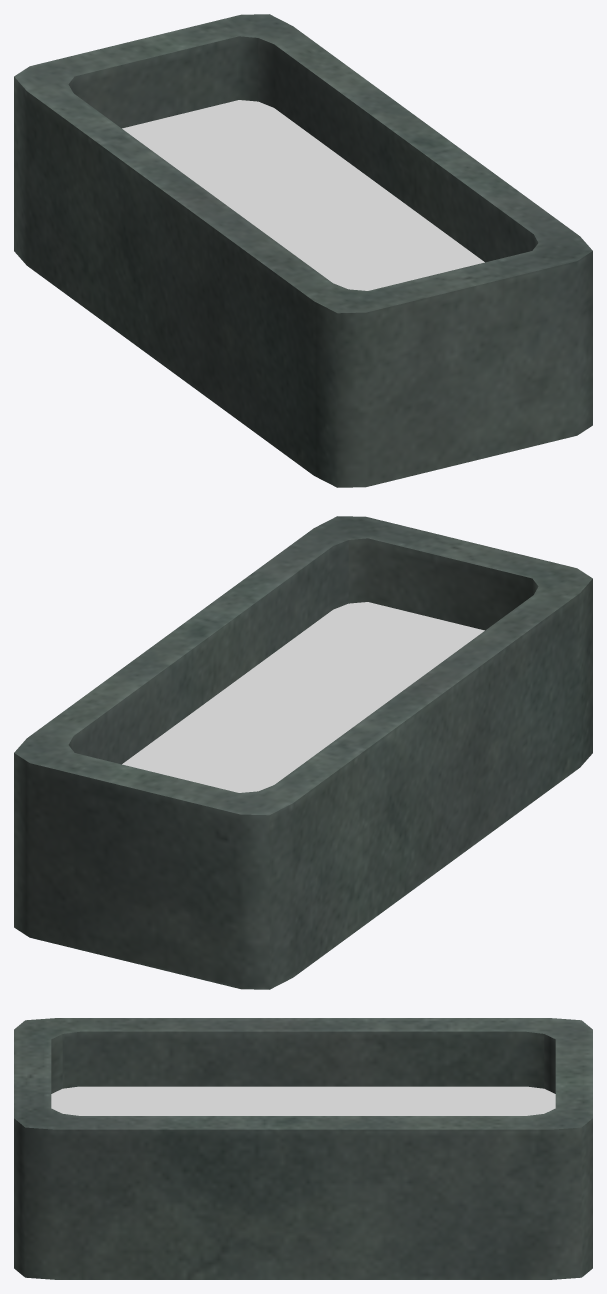
Rendered from sb_obj_indoor012_BlackSmith02.fbx.
The picture shows the model from 3 angles, top to bottom: view 1: azimuth 30°, elevation 25°; view 2: azimuth 150°, elevation 25°; view 3: azimuth 270°, elevation 25°; orthographic projection. The views are drawn at different scales.
Parts seen in each view (by area): view 1: sb_obj_indoor012_BlackSmith02; view 2: sb_obj_indoor012_BlackSmith02; view 3: sb_obj_indoor012_BlackSmith02.
Boxes of the visible parts, x1,y1,x2,y2 form: sb_obj_indoor012_BlackSmith02: [14, 14, 592, 487]; sb_obj_indoor012_BlackSmith02: [14, 516, 592, 989]; sb_obj_indoor012_BlackSmith02: [14, 1018, 592, 1279].
Size of the model in its own units: 0.715 by 0.4482 by 1.57.
